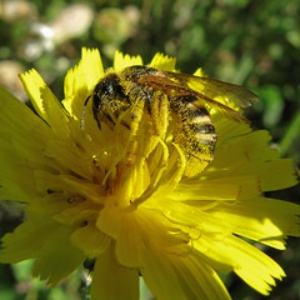bee: (82, 62, 259, 181)
